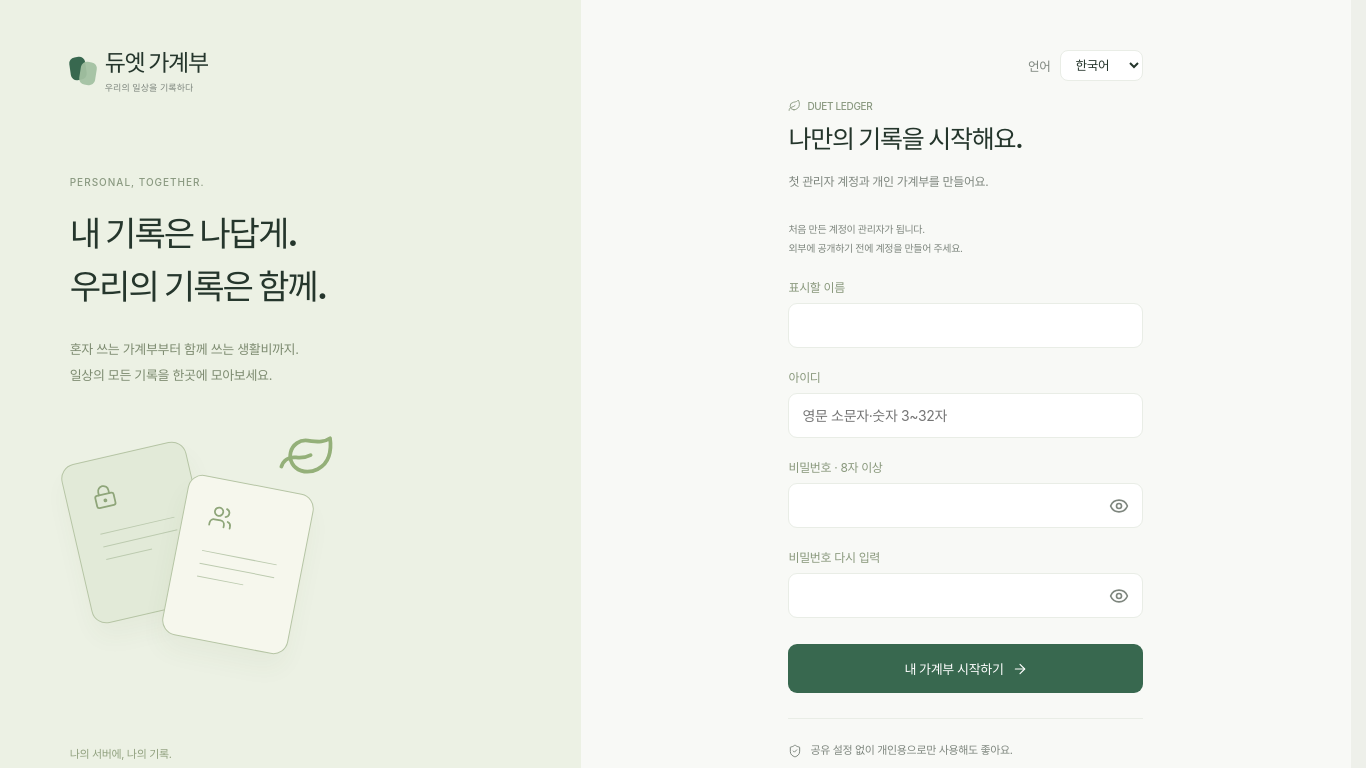
Test: 실제 입력 화면 › 다른 사람이 초기 설정을 마치면 로그인 화면으로 바꾼다
Type "민수" into the field labelled "표시할 이름". click: (966, 326)
box: [788, 303, 1144, 348]
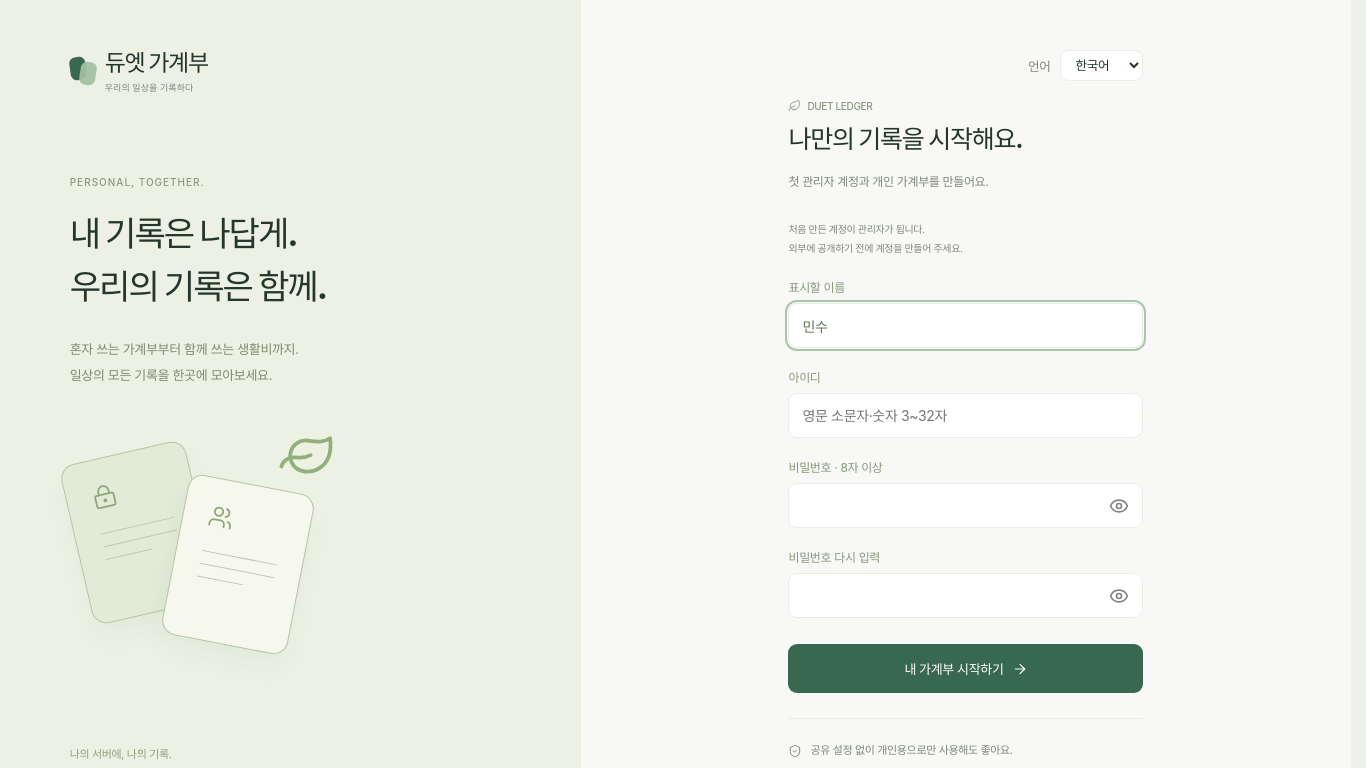
Type "minsu" into the field labelled "아이디". click: (966, 416)
box: [788, 393, 1144, 438]
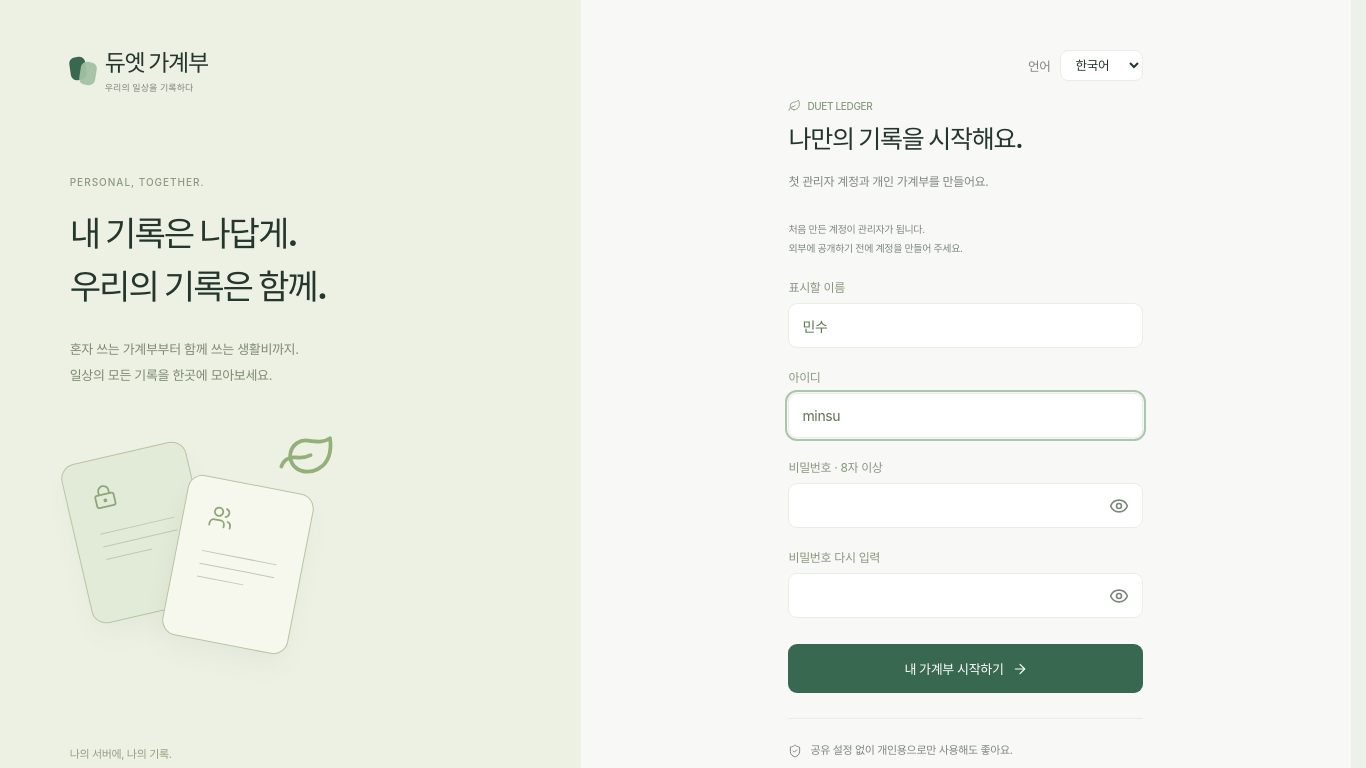
Type "my-first-private-password" into the password field labelled "비밀번호 · 8자 이상". click: (966, 506)
box: [788, 483, 1144, 528]
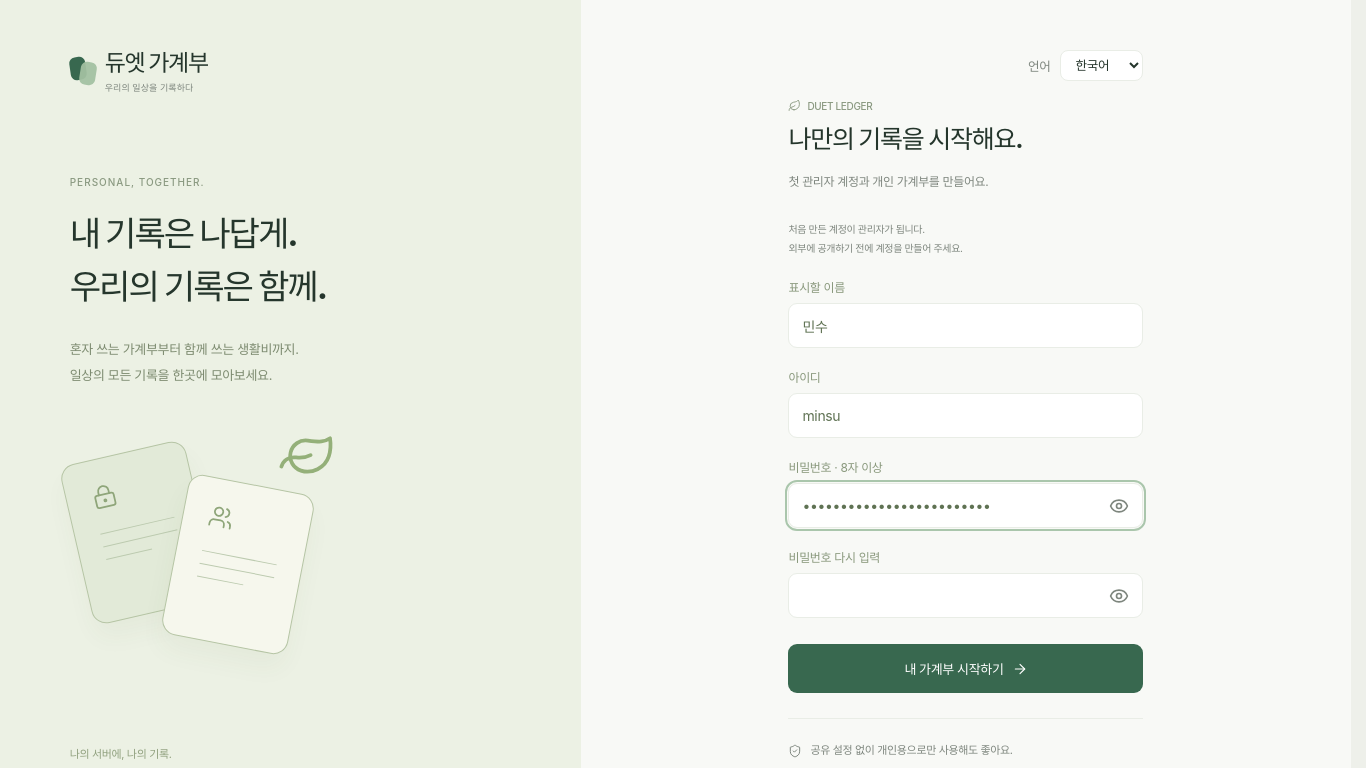
Type "my-first-private-password" into the password field labelled "비밀번호 다시 입력". click: (966, 596)
box: [788, 573, 1144, 618]
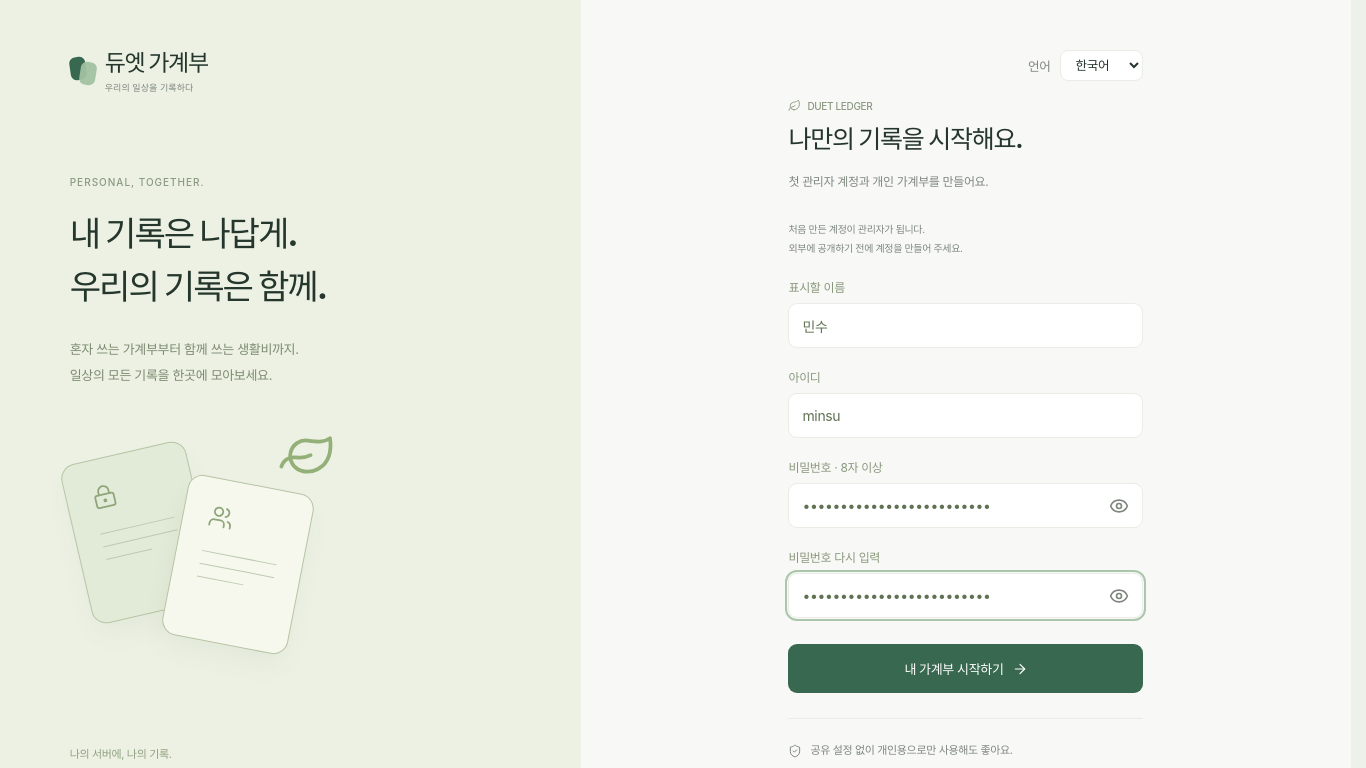
Click the button "내 가계부 시작하기". click: (966, 669)
box: [788, 644, 1144, 693]
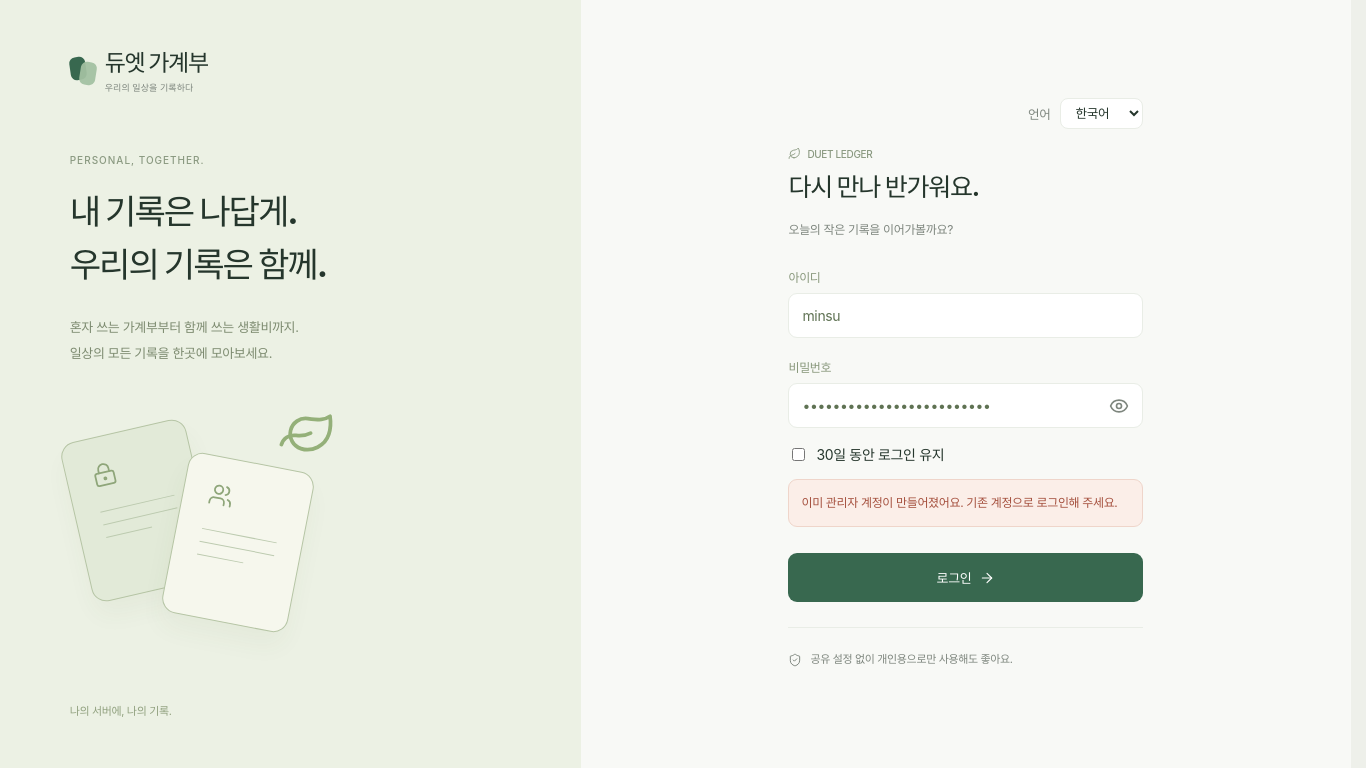
Expected: the button "로그인" is shown, [788, 553, 1144, 602]
Expected: the label labelled "표시할 이름" is gone
Expected: the text "이미 관리자 계정이 만들어졌어요. 기존 계정으로 로그인해 주세요." is shown, [788, 480, 1144, 527]
